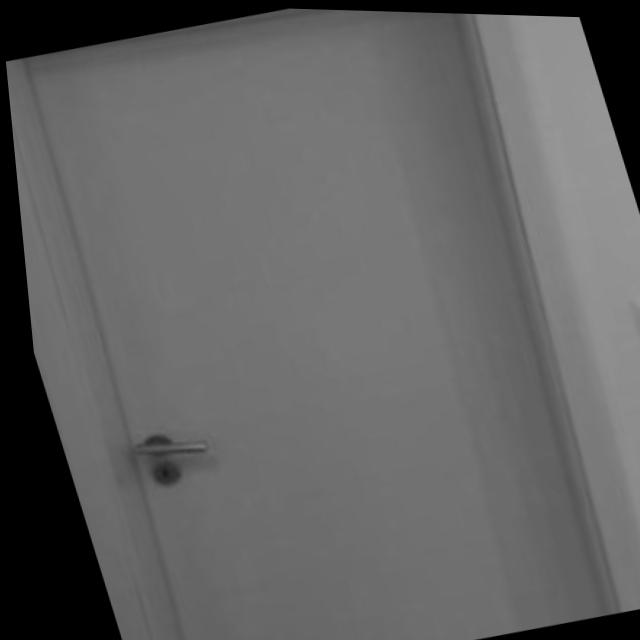door_handle: (101, 417, 218, 479)
